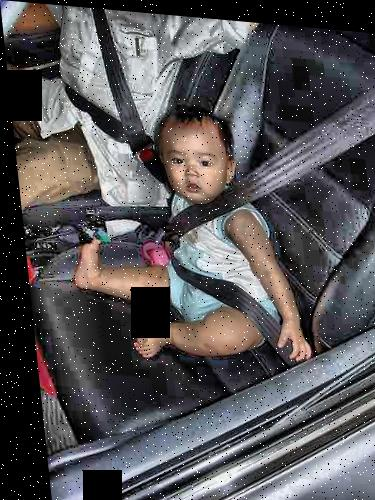seatbelt: (134, 86, 375, 331), (52, 18, 160, 161)
